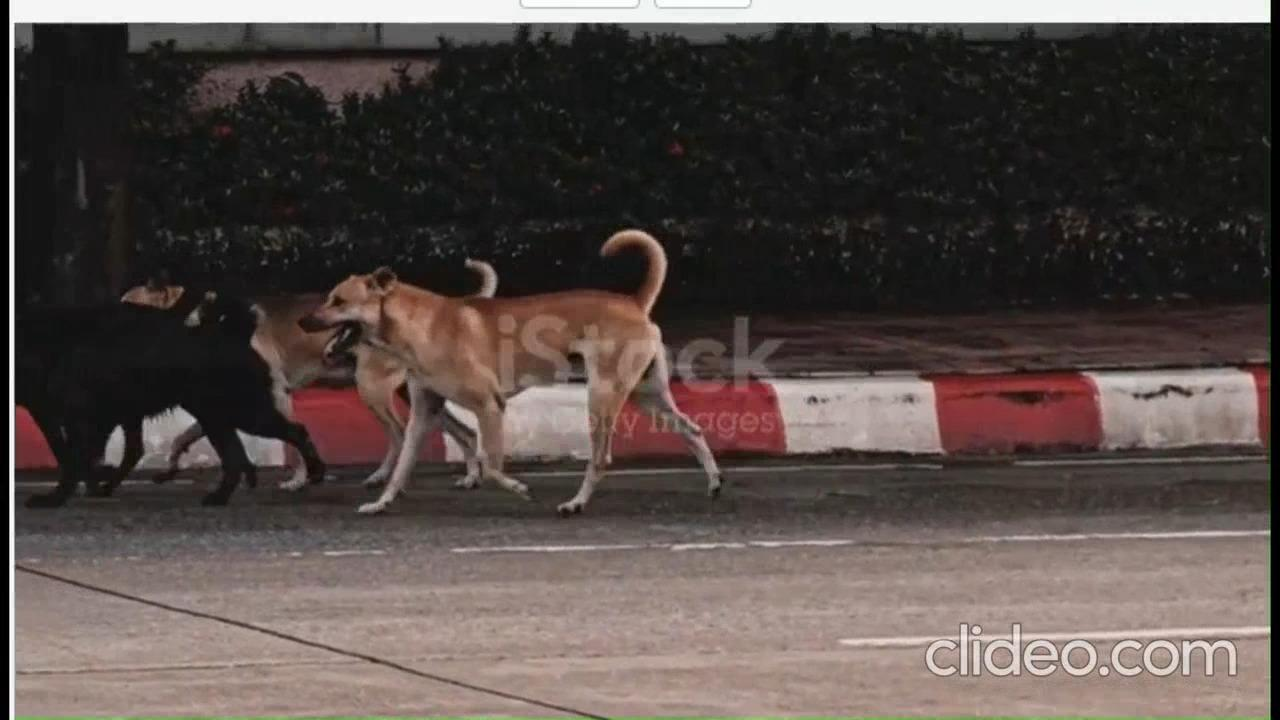dog: (299, 225, 721, 515), (20, 285, 333, 507)
